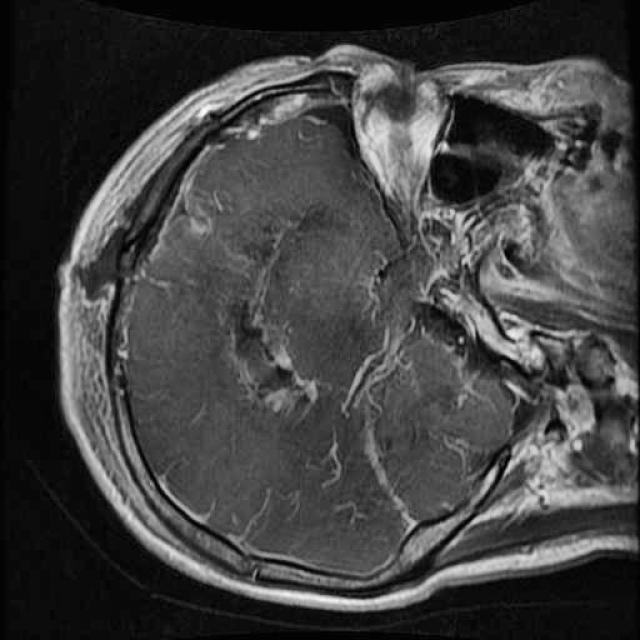Tumor: (223, 290, 329, 430)
